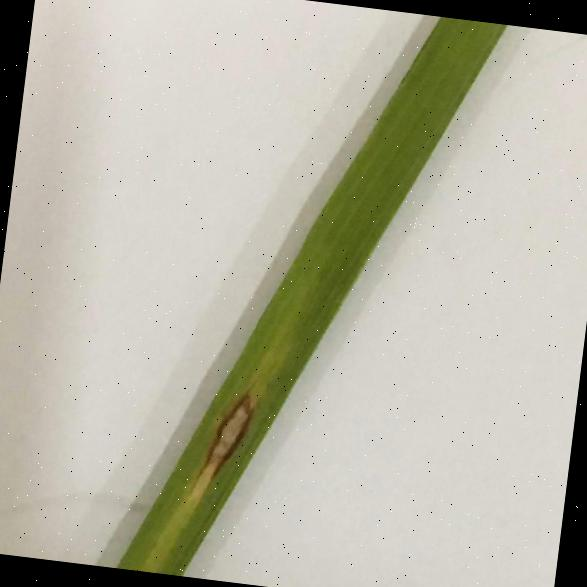Leaf_smut: (191, 379, 264, 485)
